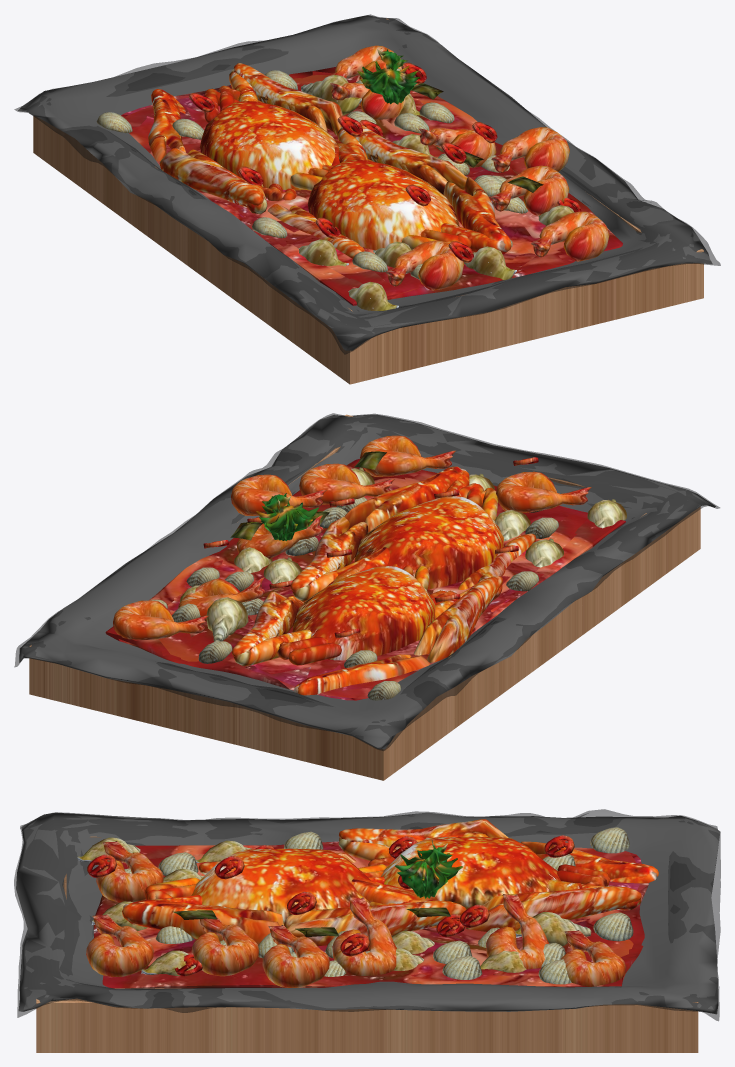
Rendered from Crab Platter.glb.
3 renders of one model, top to bottom at view 1: azimuth 30°, elevation 25°; view 2: azimuth 150°, elevation 25°; view 3: azimuth 270°, elevation 25°, orthographic. The views are drawn at different scales.
Visible parts, largest first — view 1: Crab Platter; view 2: Crab Platter; view 3: Crab Platter.
Boxes of the visible parts, box(x1,y1,x2,y2) form: Crab Platter: box(14, 14, 720, 384); Crab Platter: box(14, 413, 719, 780); Crab Platter: box(14, 809, 720, 1052).
Size of the model in its own units: 0.238 by 0.0822 by 0.3641.
Materials: 10 (8 with a texture image).
